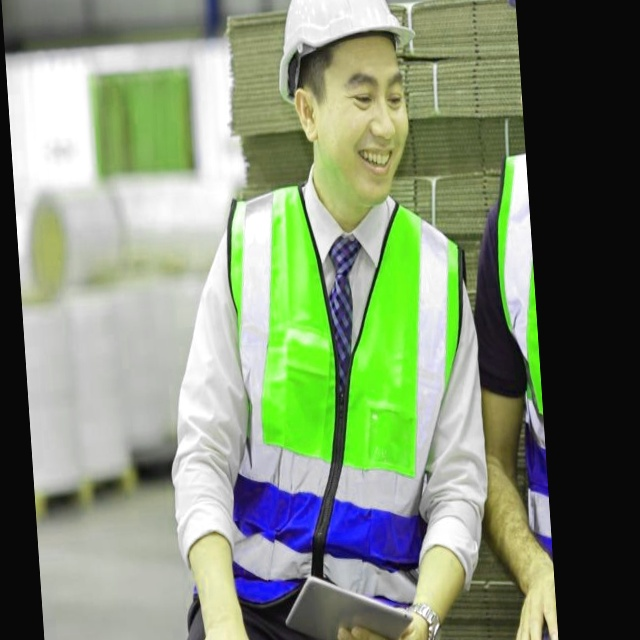Con_Casco: (265, 0, 427, 206)
Con_Chaleco: (217, 176, 489, 629)
